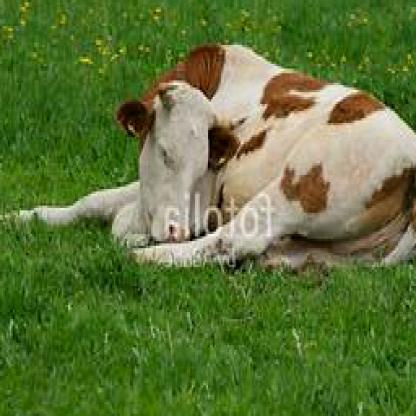cow: (1, 42, 415, 273)
